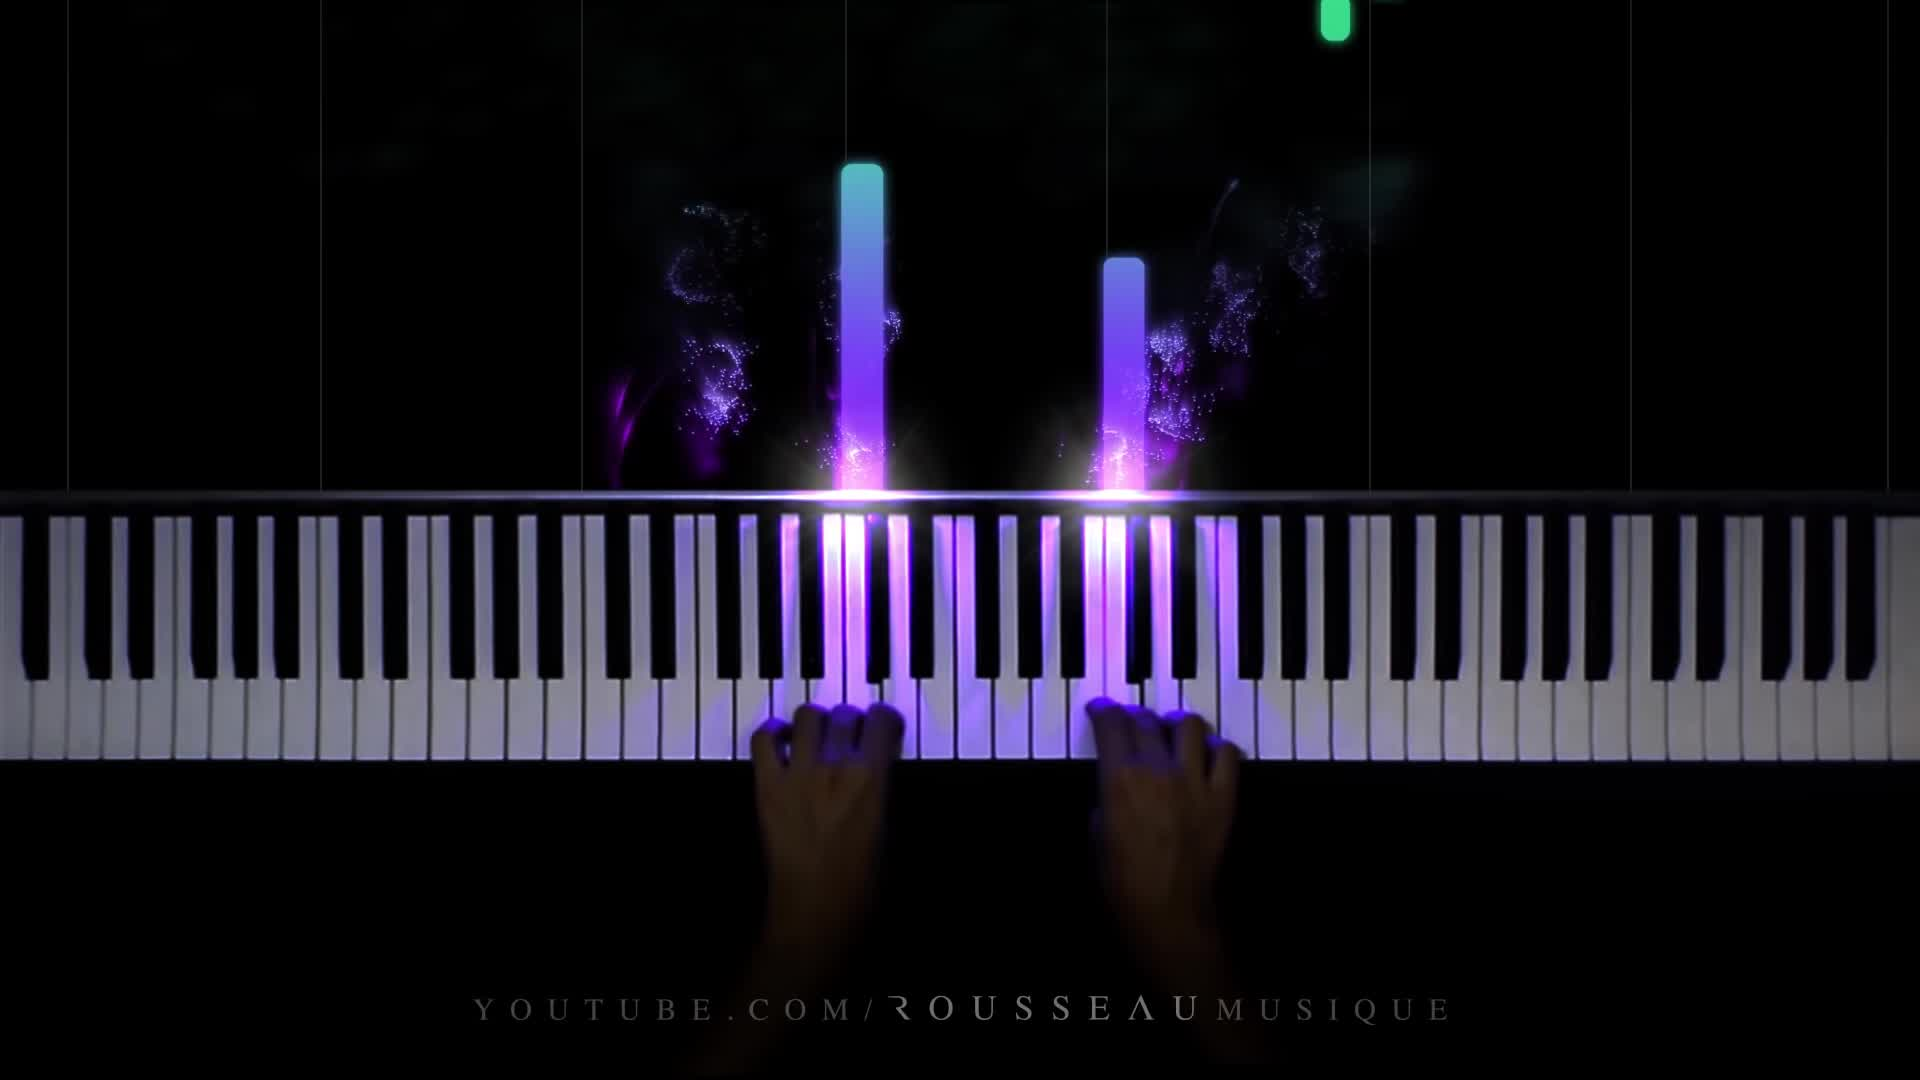left: (737, 692, 915, 920)
right: (1077, 692, 1255, 939)
